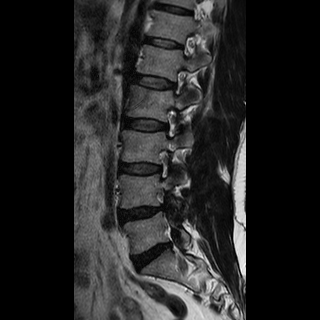RFS0: (157, 100, 183, 141), (151, 144, 175, 184), (166, 61, 188, 99)
